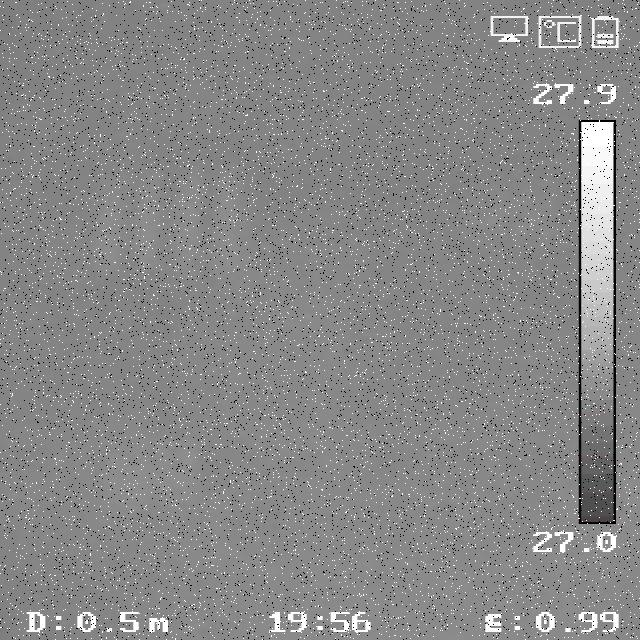Indistinguishable 4-bar target: (109, 429, 199, 499)
threshold 4-bar target: (97, 170, 243, 281)
